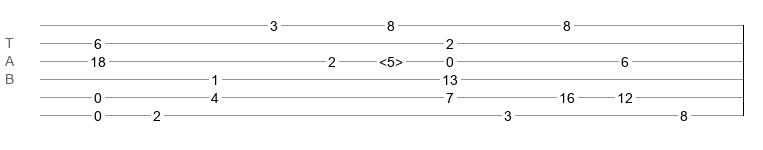0: (94, 108, 102, 118), (94, 90, 102, 100), (446, 54, 454, 64)
1: (211, 72, 219, 82)
12: (617, 90, 633, 100)
13: (442, 72, 458, 82)
16: (559, 90, 575, 100)
18: (90, 54, 106, 64)
2: (153, 108, 161, 118), (328, 54, 336, 64), (446, 36, 454, 46)
3: (270, 18, 278, 28), (504, 108, 512, 118)
4: (211, 90, 219, 100)
6: (94, 36, 102, 46), (621, 54, 629, 64)
7: (446, 90, 454, 100)
8: (387, 18, 395, 28), (563, 18, 571, 28), (680, 108, 688, 118)
harmonic: (379, 54, 403, 64)
